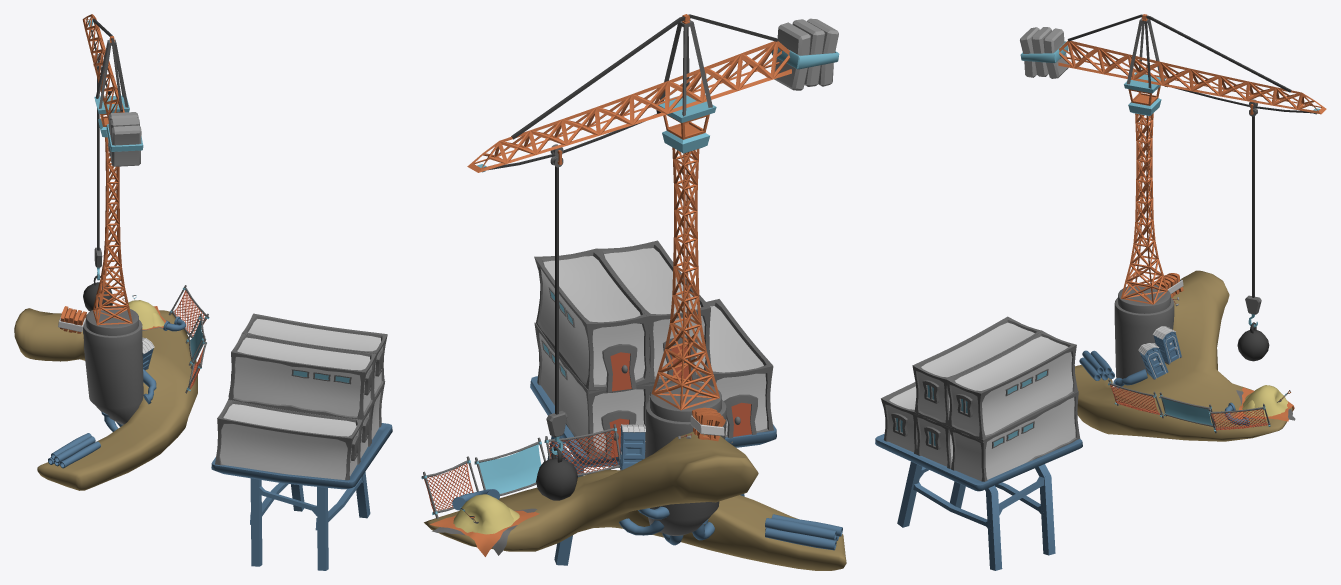
File: ConstructionSideBuildings.fbx
3 renders of one model, left to right at view 1: azimuth 30°, elevation 25°; view 2: azimuth 150°, elevation 25°; view 3: azimuth 270°, elevation 25°, orthographic. The views are drawn at different scales.
Parts seen in each view (by area): view 1: Cube.010, Balancing act.002, Crane, Cylinder.004, Cube.006, Cylinder.006, Cube.015, Cube.012, Plane.002, Retopo_Circle.001, Cube.005, Plane.001; view 2: Cube.010, Crane, Balancing act.002, Cylinder.004, Plane.001, Retopo_Circle.001, Plane.007, Cube.006, Cylinder.006, Cube.005, Cube.032, Plane.002 (+4 smaller); view 3: Cube.010, Crane, Balancing act.002, Cylinder.004, Cube.006, Cube.014, Cube.011, Retopo_Circle.001, Cylinder.006, Plane.002, Plane.001, Plane.007 (+6 smaller).
Part boxes in pixels (x1,y1,x2,y2): Cube.010: (215, 313, 387, 480); Balancing act.002: (14, 308, 197, 490); Crane: (82, 14, 143, 325); Cylinder.004: (83, 320, 143, 424); Cube.006: (211, 423, 392, 489); Cylinder.006: (86, 307, 138, 335); Cube.015: (250, 478, 262, 566); Cube.012: (317, 487, 328, 570); Plane.002: (168, 285, 209, 337); Retopo_Circle.001: (128, 300, 164, 329); Cube.005: (94, 67, 102, 280); Plane.001: (185, 314, 206, 365); Cube.010: (534, 240, 773, 459); Crane: (467, 14, 839, 410); Balancing act.002: (424, 431, 846, 570); Cylinder.004: (645, 400, 726, 535); Plane.001: (474, 437, 545, 495); Retopo_Circle.001: (453, 494, 519, 534); Plane.007: (544, 424, 621, 475); Cube.006: (530, 376, 776, 465); Cylinder.006: (650, 382, 721, 421); Cube.005: (546, 166, 567, 454); Cube.032: (536, 447, 577, 500); Plane.002: (421, 456, 478, 518); Cube.010: (881, 316, 1080, 481); Crane: (1020, 14, 1326, 304); Balancing act.002: (1075, 270, 1292, 441); Cylinder.004: (1114, 297, 1174, 378); Cube.006: (875, 434, 1082, 491); Cube.014: (1035, 464, 1055, 555); Cube.011: (985, 485, 1002, 570); Retopo_Circle.001: (1242, 385, 1287, 416); Cylinder.006: (1118, 284, 1170, 313); Plane.002: (1208, 403, 1270, 433); Plane.001: (1159, 392, 1216, 427); Plane.007: (1108, 379, 1163, 418).
Bounding box in the file's own units: 2119 × 3260 × 2831.
